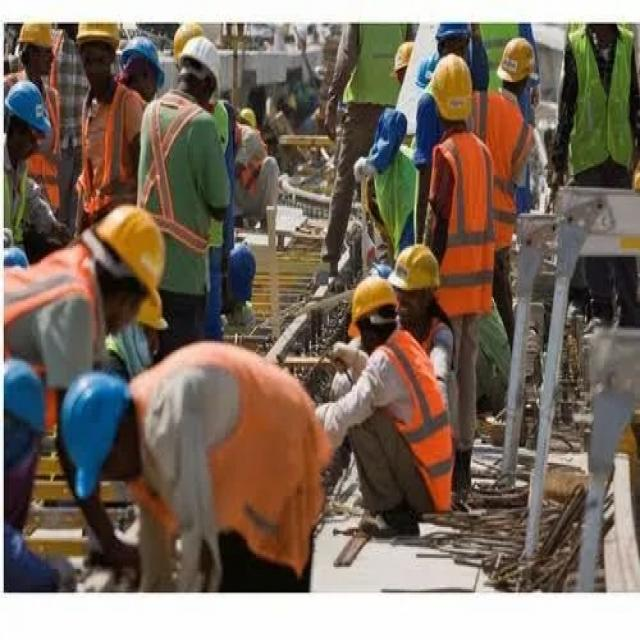Reflective-Jacket: (128, 334, 329, 563), (364, 321, 458, 501), (558, 18, 640, 188), (4, 237, 105, 374), (430, 130, 498, 316), (481, 91, 531, 252)
Safety-Helmet: (91, 195, 173, 325), (58, 365, 134, 496), (423, 53, 478, 126), (170, 14, 226, 84), (343, 266, 401, 332), (384, 241, 444, 297), (494, 33, 540, 91), (4, 78, 51, 132), (72, 1, 128, 46), (429, 4, 476, 44), (15, 14, 55, 53), (388, 34, 421, 78)
